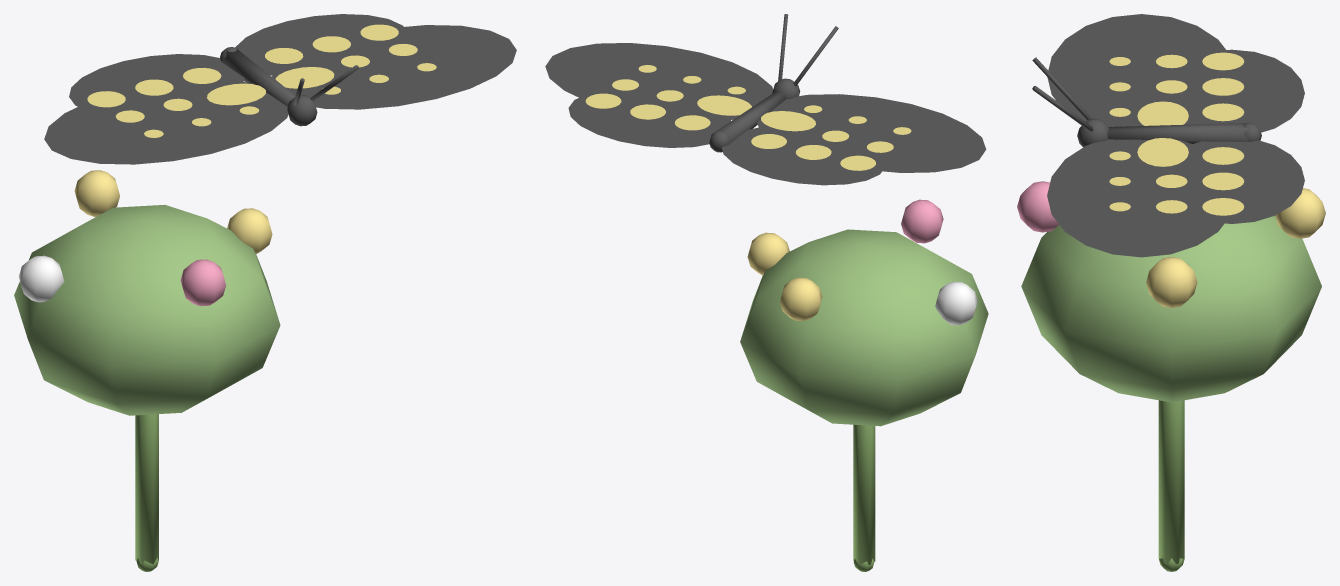
The model's file is lime-butterfly.glb.
3 views of the same model, side by side, from view 1: azimuth 30°, elevation 25°; view 2: azimuth 150°, elevation 25°; view 3: azimuth 270°, elevation 25° (orthographic). The views are drawn at different scales.
Visible parts, largest first — view 1: e, wingdisc, wingdisc.012, e.007; view 2: e, wingdisc, wingdisc.012, e.007; view 3: e, wingdisc.012, wingdisc, e.007.
Part boxes in pixels (left/top/right/bottom): e: left=14, top=170, right=280, bottom=571; wingdisc: left=44, top=54, right=288, bottom=164; wingdisc.012: left=235, top=14, right=516, bottom=109; e.007: left=220, top=47, right=358, bottom=126; e: left=740, top=199, right=988, bottom=571; wingdisc: left=722, top=94, right=986, bottom=185; wingdisc.012: left=545, top=43, right=773, bottom=147; e.007: left=709, top=14, right=838, bottom=152; e: left=1017, top=181, right=1325, bottom=571; wingdisc.012: left=1047, top=138, right=1304, bottom=257; wingdisc: left=1047, top=14, right=1304, bottom=132; e.007: left=1032, top=57, right=1261, bottom=147.
Bounding box in the file's own units: 1.38 × 1.44 × 0.7187.
